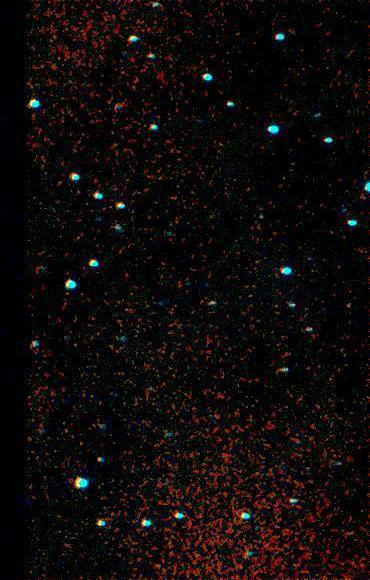star: (335, 295, 365, 325)
